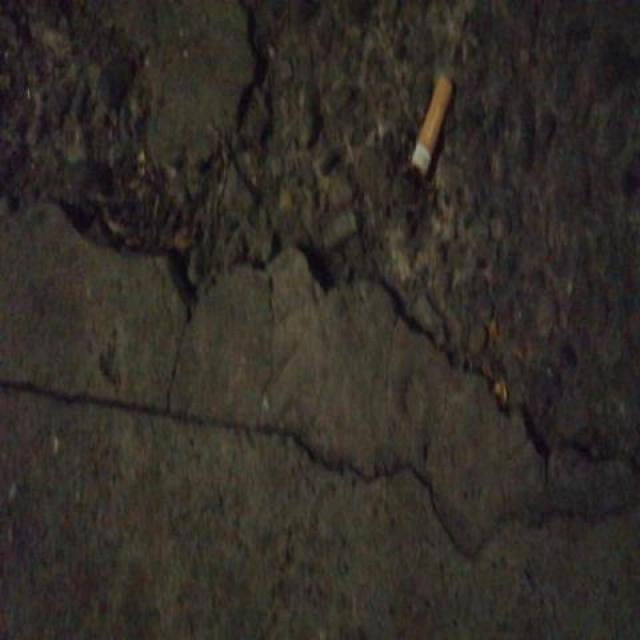non-organic waste: (407, 70, 457, 179)
